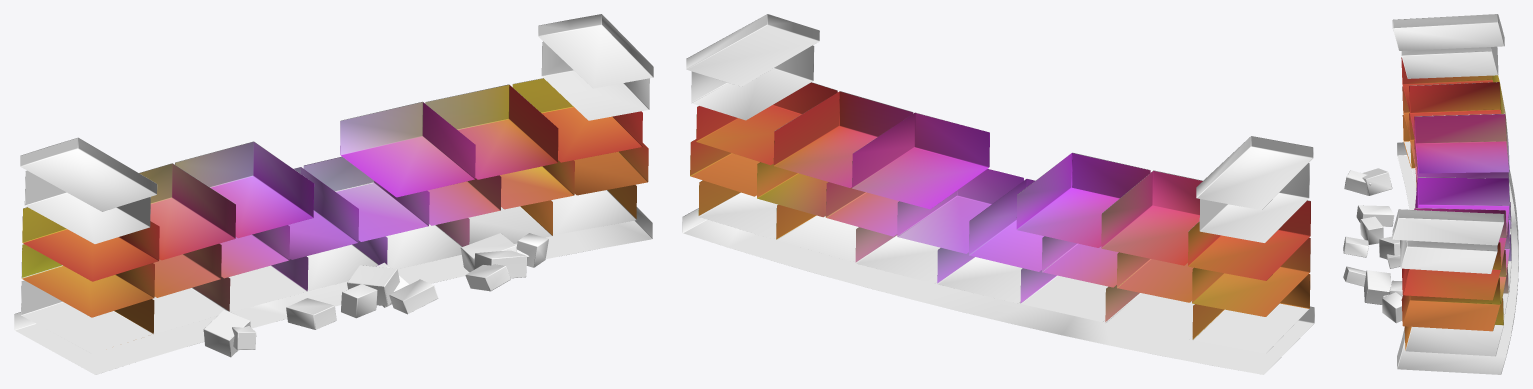
The model's file is wall-breached.glb.
The picture shows the model from 3 angles, left to right: view 1: azimuth 30°, elevation 25°; view 2: azimuth 150°, elevation 25°; view 3: azimuth 270°, elevation 25°; orthographic projection. The views are drawn at different scales.
Parts seen in each view (by area): view 1: wall-breached; view 2: wall-breached; view 3: wall-breached.
Boxes of the visible parts, <box> form: wall-breached: <box>14,14,653,374</box>; wall-breached: <box>682,14,1314,374</box>; wall-breached: <box>1343,14,1518,374</box>.
Bounding box in the file's own units: 9.11 × 2.6 × 3.
